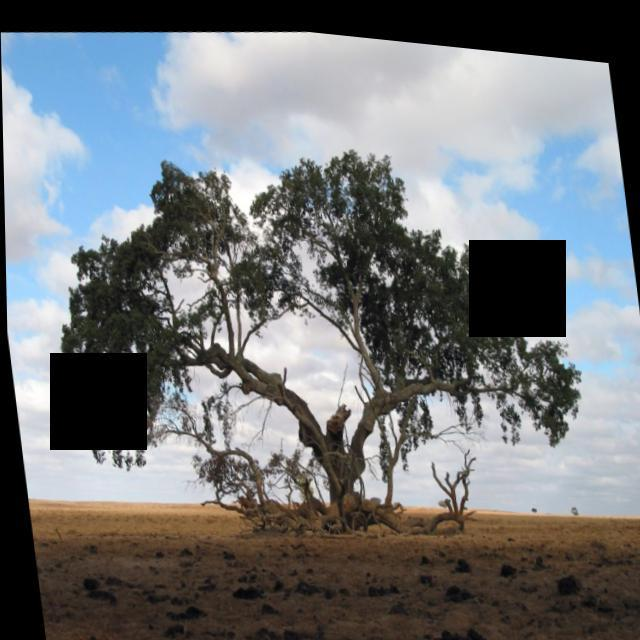Tree: (14, 81, 601, 555)
